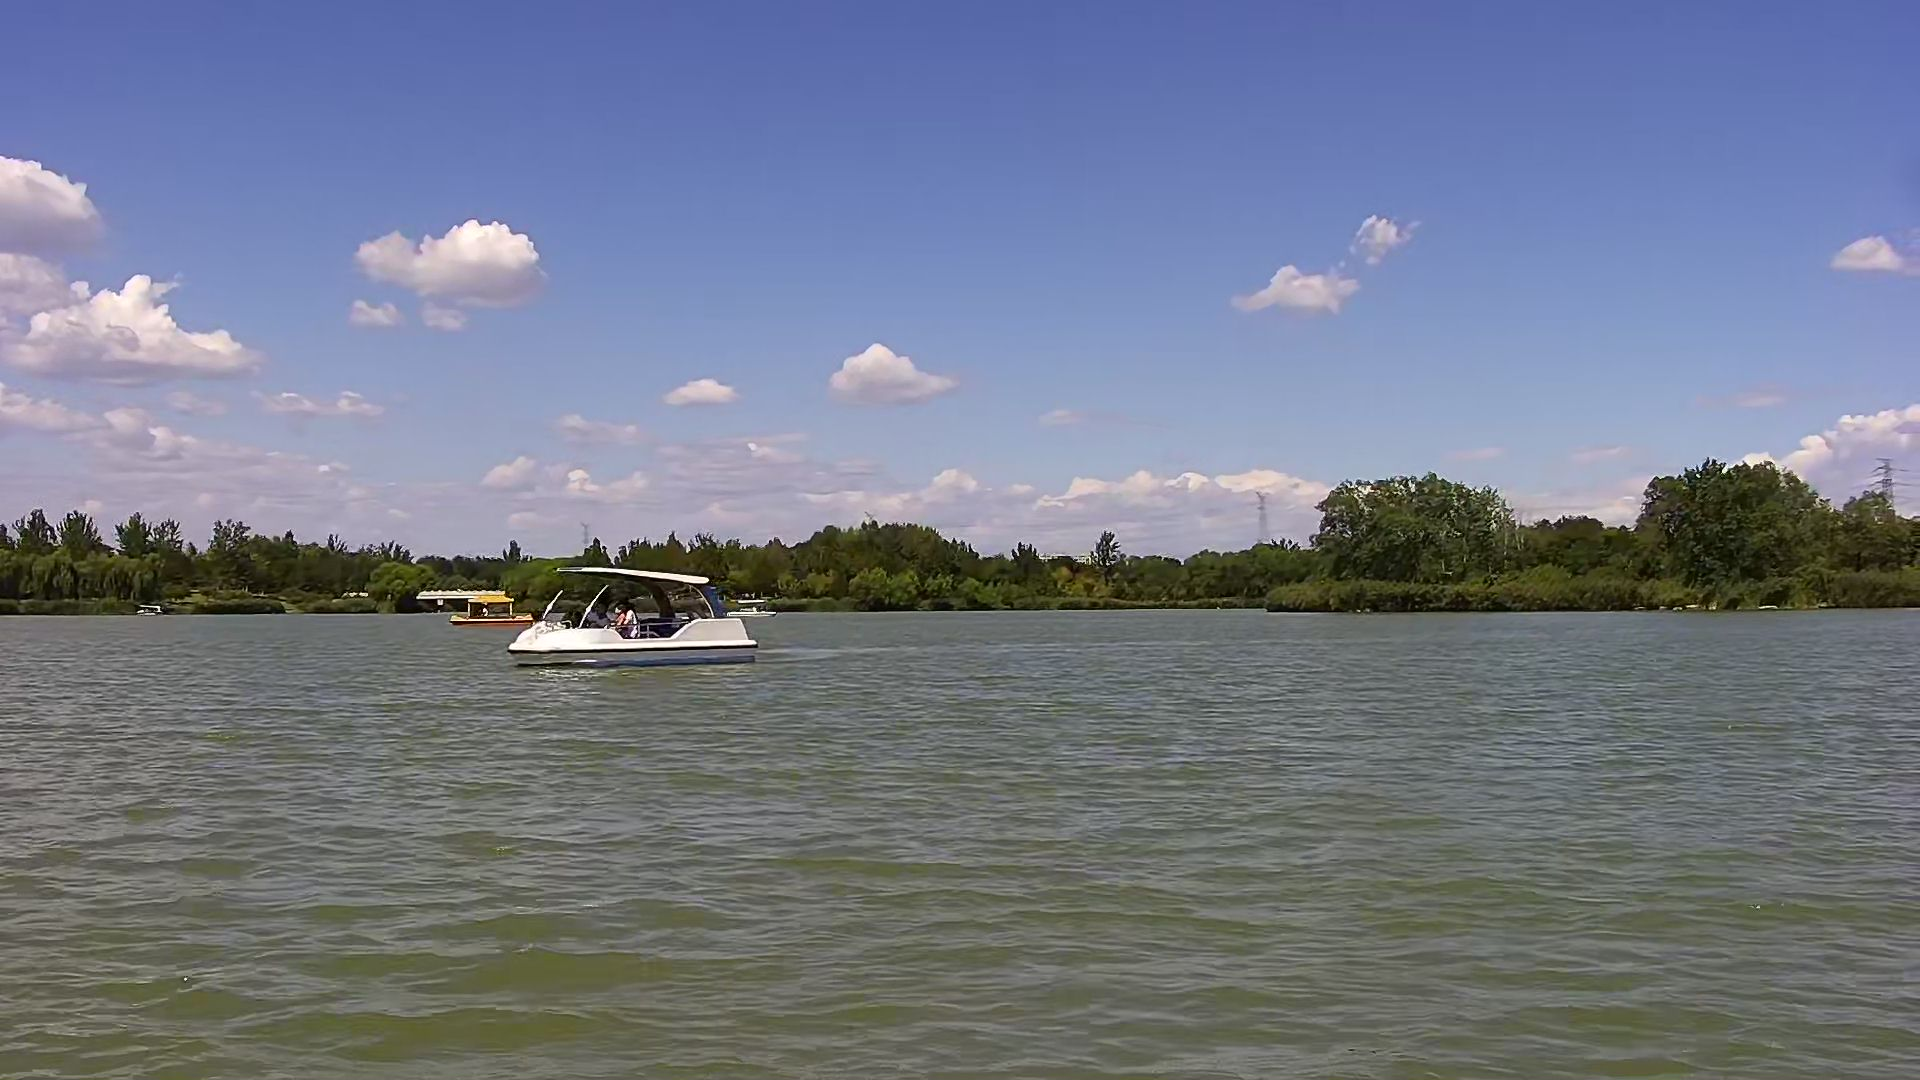boat: (504, 560, 758, 680), (458, 593, 530, 624)
bridge: (423, 587, 495, 616)
